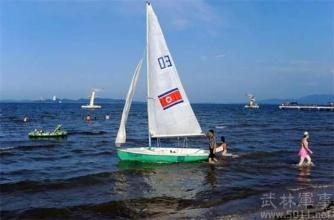fanchuan: (113, 1, 219, 161)
otherboat: (28, 124, 66, 139)
person: (298, 123, 319, 167), (202, 126, 218, 159)
